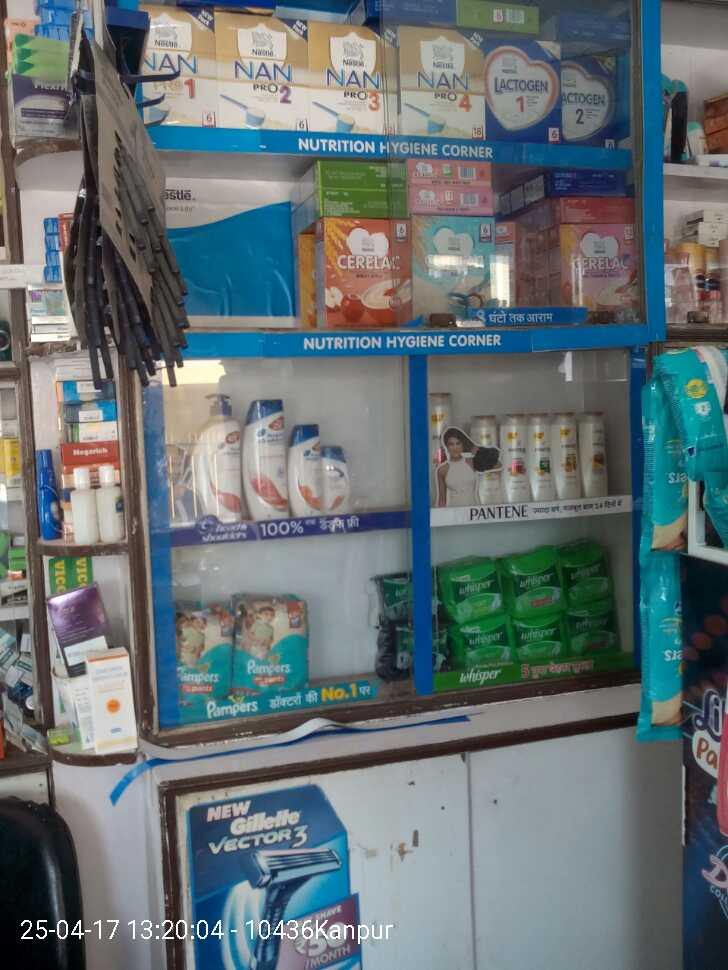beauty: (190, 396, 249, 530), (240, 394, 295, 521), (495, 408, 543, 507), (285, 419, 327, 515), (547, 411, 586, 496), (527, 414, 560, 501), (317, 444, 356, 515), (581, 410, 610, 498)
pharmacy: (229, 593, 314, 689), (170, 604, 236, 700), (429, 553, 507, 619), (502, 557, 568, 616), (547, 546, 614, 603), (446, 616, 514, 665), (513, 612, 570, 665)
